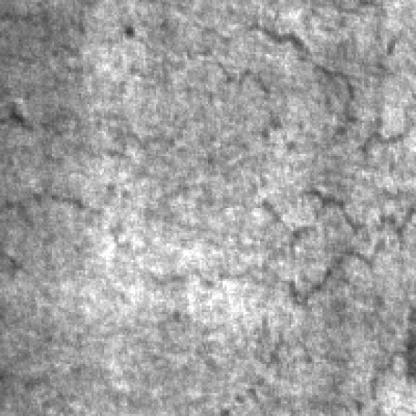crazing: (189, 13, 416, 162), (252, 147, 416, 312)
